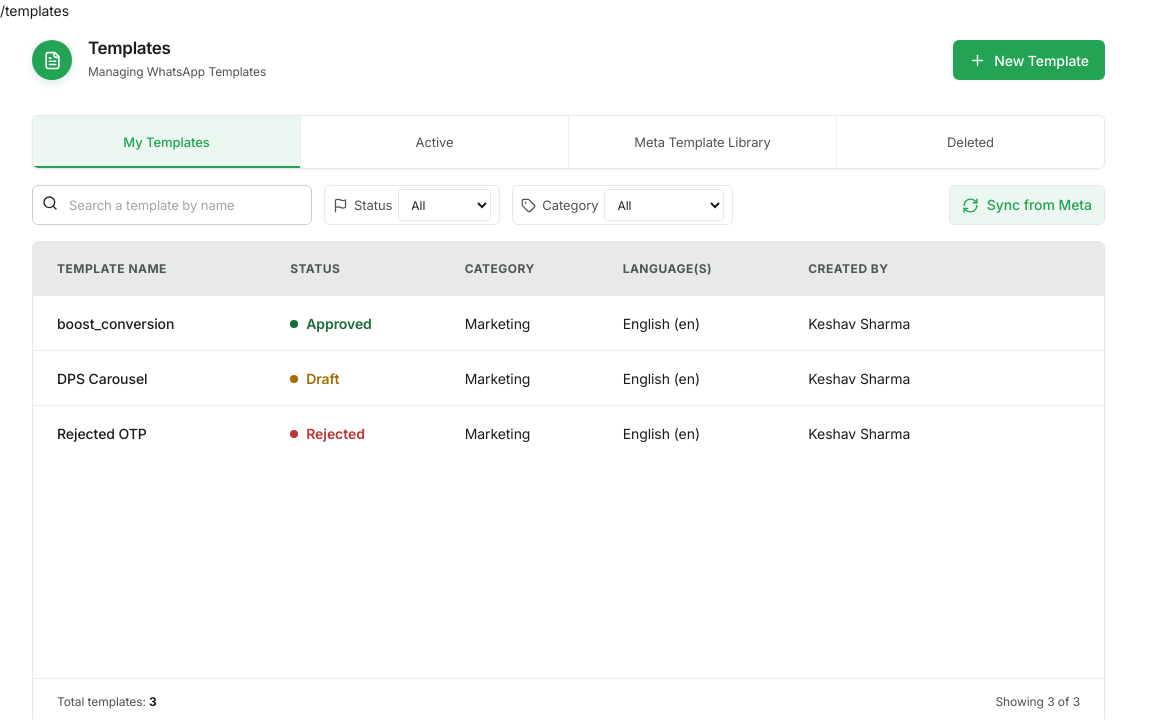
Templates › opens template details and shows the rejection reason
The image size is (1152, 720).
Click the text "Rejected OTP" at (102, 433), box top-left (57, 422), bottom-right (147, 444)
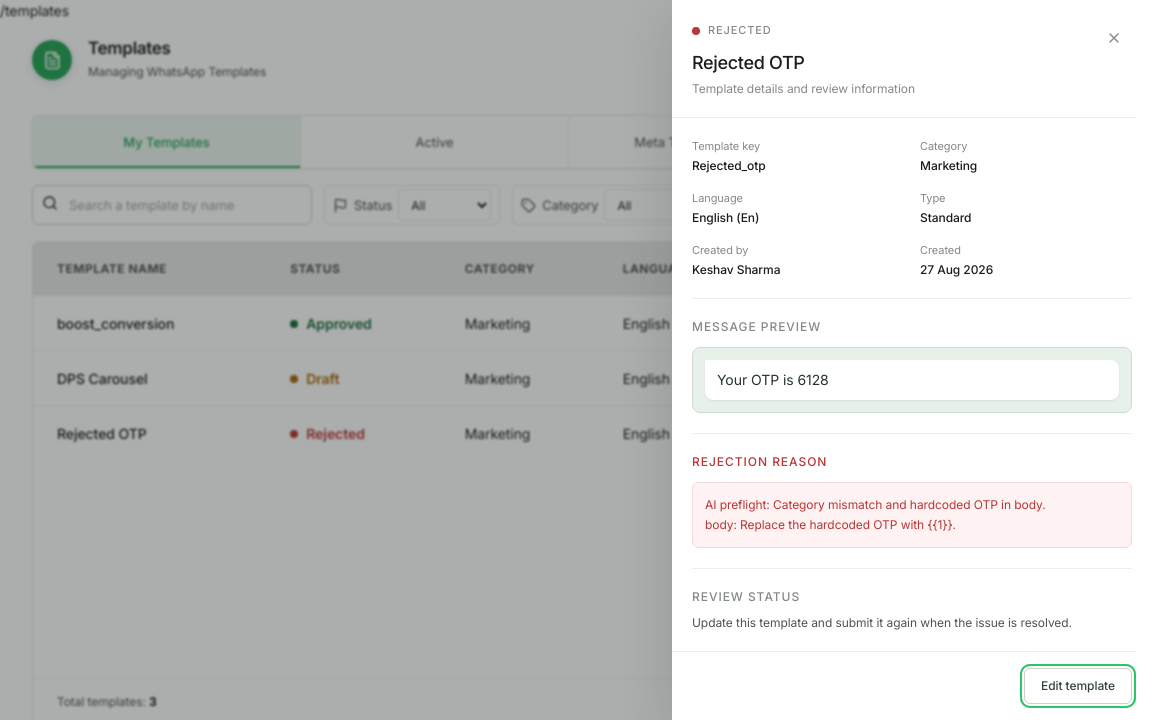
Now the dialog "Rejected OTP" is shown, box top-left (672, 0), bottom-right (1151, 719)
Now the element with test id "template-rejection-reason" shows "Category mismatch and hardcoded OTP in body.", box top-left (705, 497), bottom-right (1046, 532)
Now the element with test id "template-rejection-reason" shows "Replace the hardcoded OTP with {{1}}.", box top-left (705, 497), bottom-right (1046, 532)
